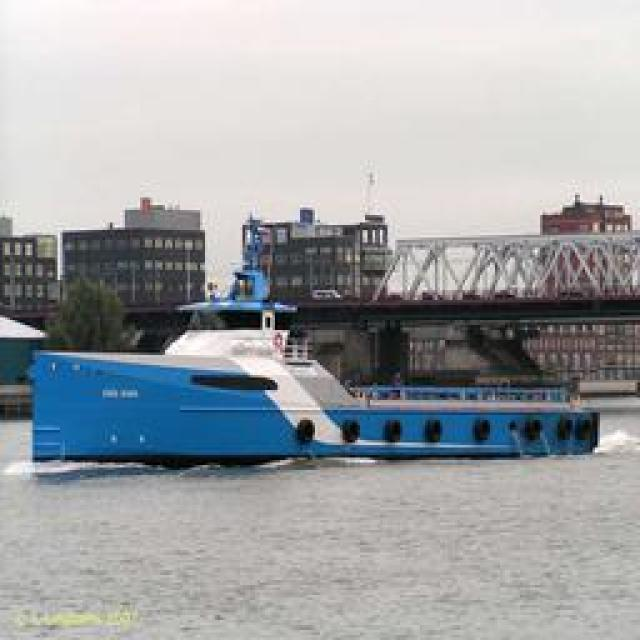CIV_Ship: (41, 306, 604, 466)
